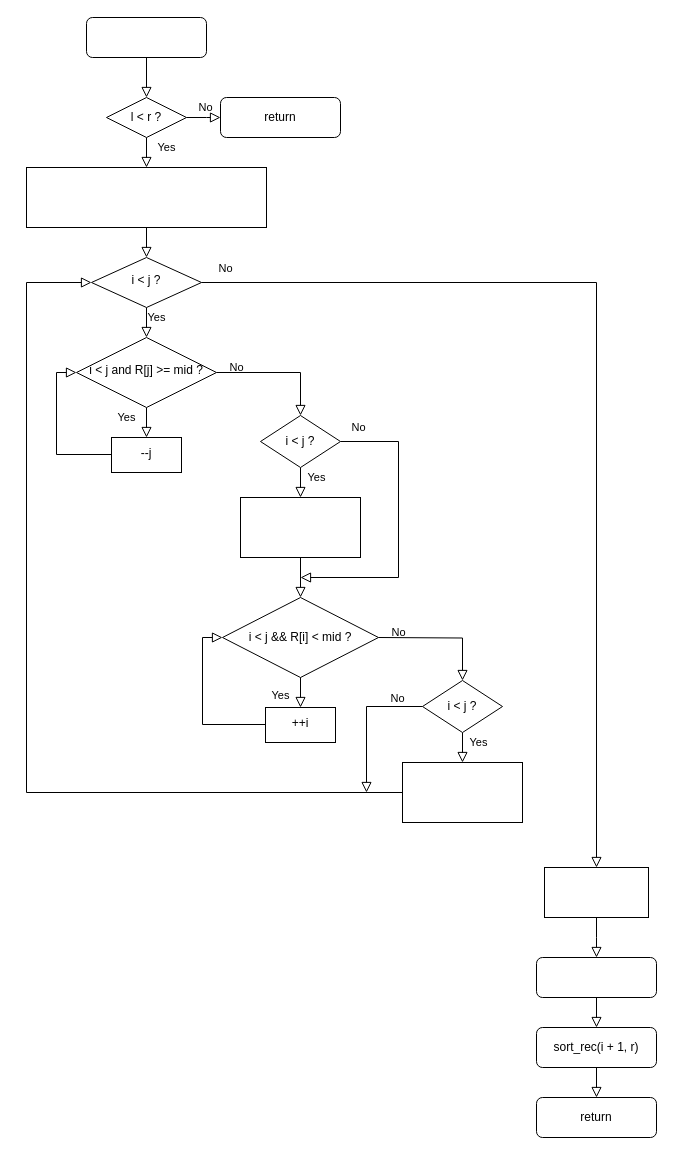
Image size: 674x1155. Some labels were removed from this diagram. Here are the shapes that lost their labels. From the top down, the centre of each, then its label:
[146,37]: sort(l, r)
[146,197]: i = l, j = r, mid = R[l + (rand() % (r - l + 1))]
[300,527]: R[i++] = R[j]
[462,792]: R[j--] = R[i]
[596,892]: R[i] = mid
[596,977]: sort_rec(l, i - 1)
